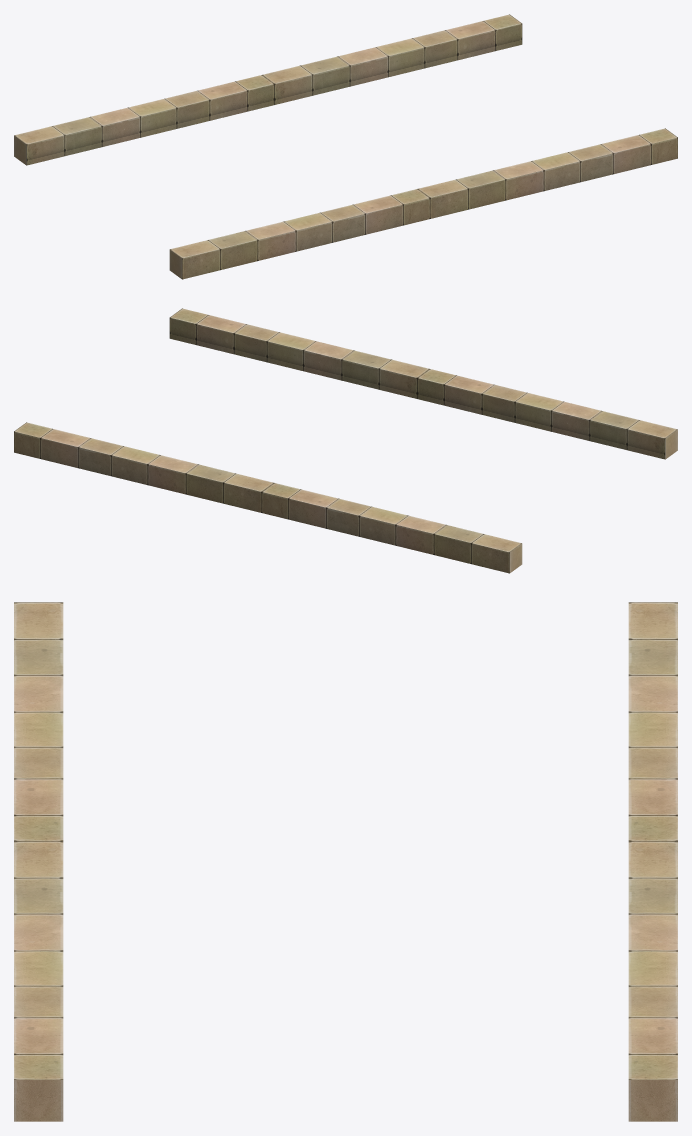
Rendered from CourseStraightMedium_Border.fbx.
3 views of the same model, one above another, from view 1: azimuth 30°, elevation 25°; view 2: azimuth 150°, elevation 25°; view 3: azimuth 270°, elevation 25° (orthographic). The views are drawn at different scales.
Parts seen in each view (by area): view 1: CourseStraightMedium_Border; view 2: CourseStraightMedium_Border; view 3: CourseStraightMedium_Border.
Boxes of the visible parts, <box> form: CourseStraightMedium_Border: <box>14,14,677,279</box>; CourseStraightMedium_Border: <box>14,308,677,573</box>; CourseStraightMedium_Border: <box>14,602,677,1121</box>.
Size of the model in its own units: 470 by 32.5 by 800.
